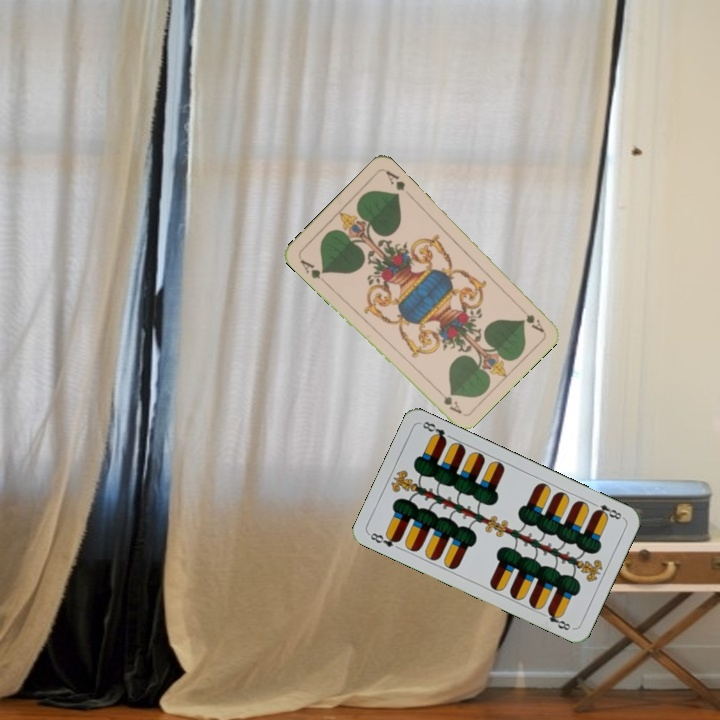E8: (588, 498, 626, 522), (365, 528, 403, 550)
GA: (514, 302, 546, 335), (296, 255, 327, 281)
